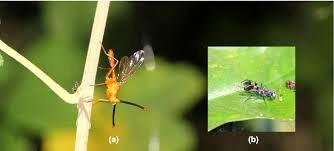Helopeltis-insect: (104, 47, 124, 108), (242, 78, 280, 102)
